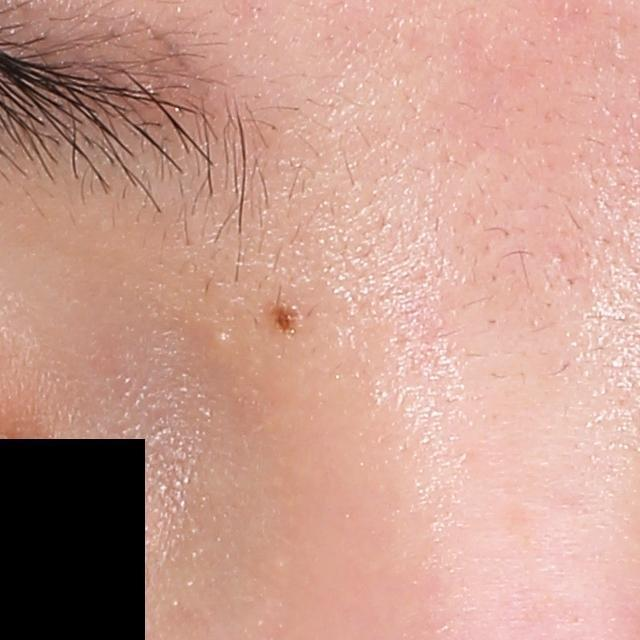nevus: (270, 304, 304, 335)
